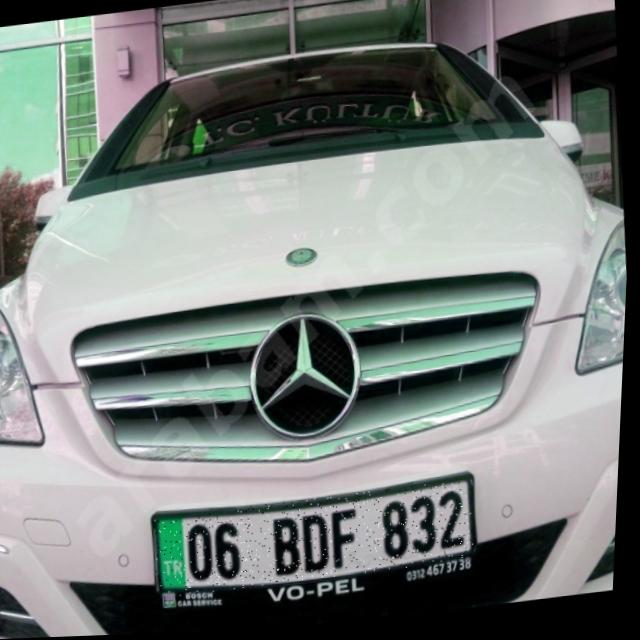license_plate: (155, 482, 482, 600)
